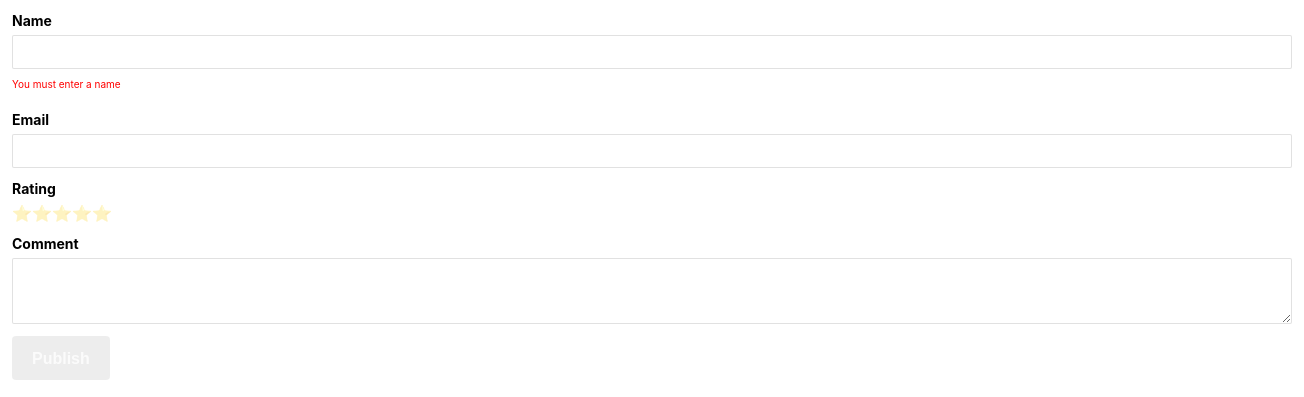
Test case: <FeedbackForm> › Field behaviour › Field: name › should hide any error message on focus
Focus the field with test id "input-name" at (652, 52), box [12, 35, 1292, 69]
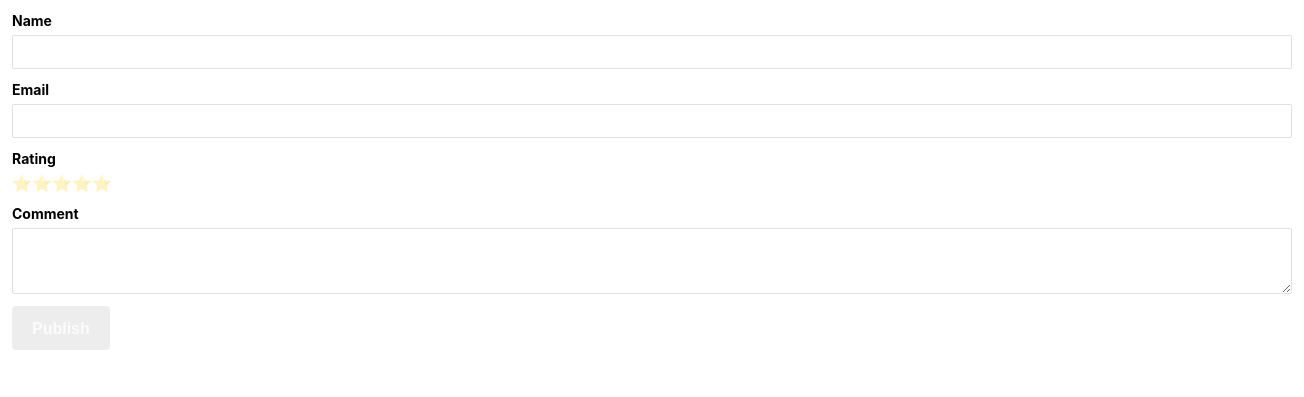
Now the text "You must enter a name" is gone
